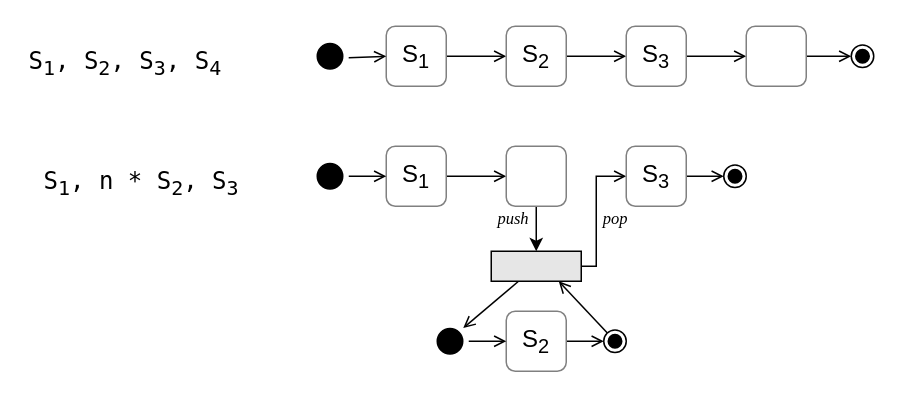
The diagram is 900 pixels wide and 398 high, and some of its shapes have lost their labels. The shapes that lost their labels are listed below. From the top down, each one's centre as x and y in pixels, then its label:
(x=775, y=55): S 4
(x=535, y=175): Rep
(x=535, y=265): subroutine
